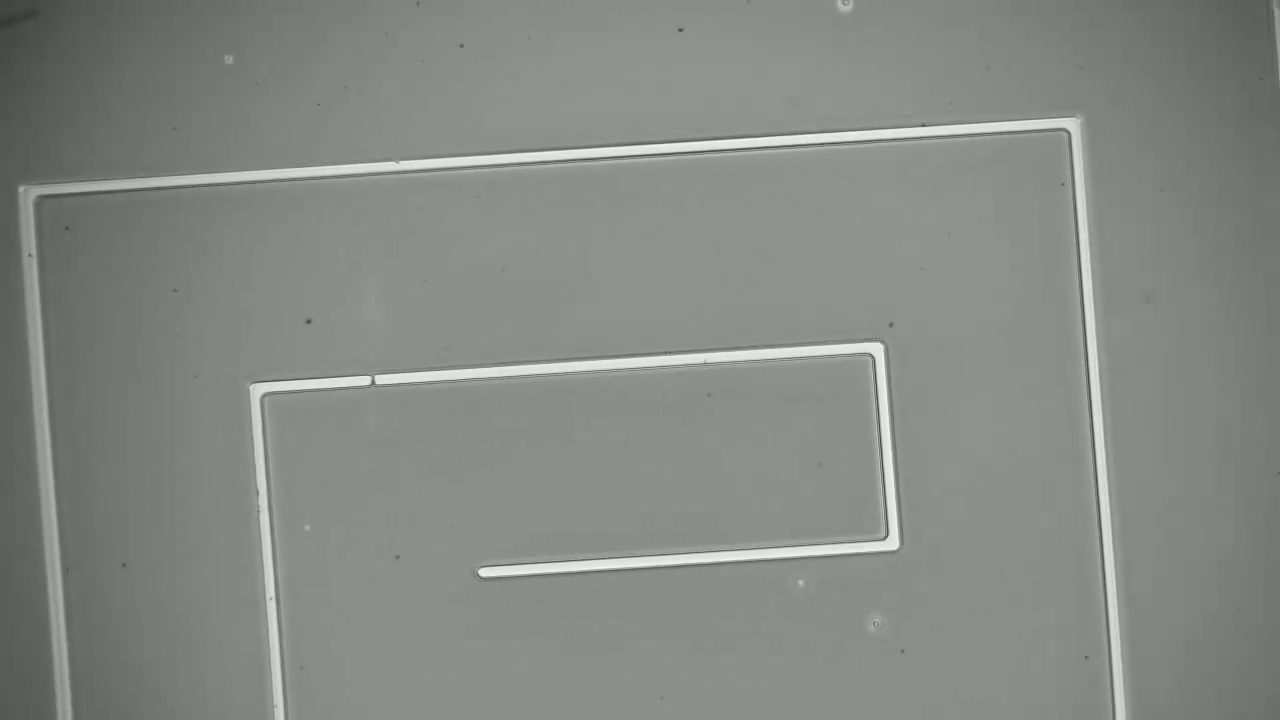stains_enbedded: (363, 368, 384, 394)
